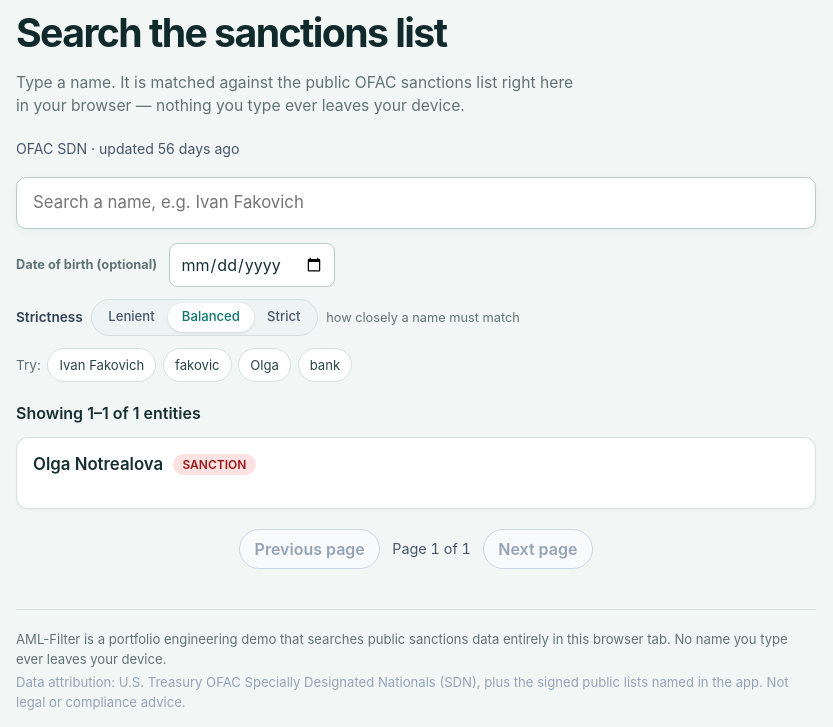
Test case: ScreenPage — screen rejection must not read as a clear › surfaces an error state on a mid-session screen rejection, not an empty no-match
# First, a genuine clear: the box shows the no-match line.
In the search field with placeholder "Search a name, e.g. Ivan Fakovich": (416, 203) x1=16 y1=177 x2=816 y2=229, type "harmless"
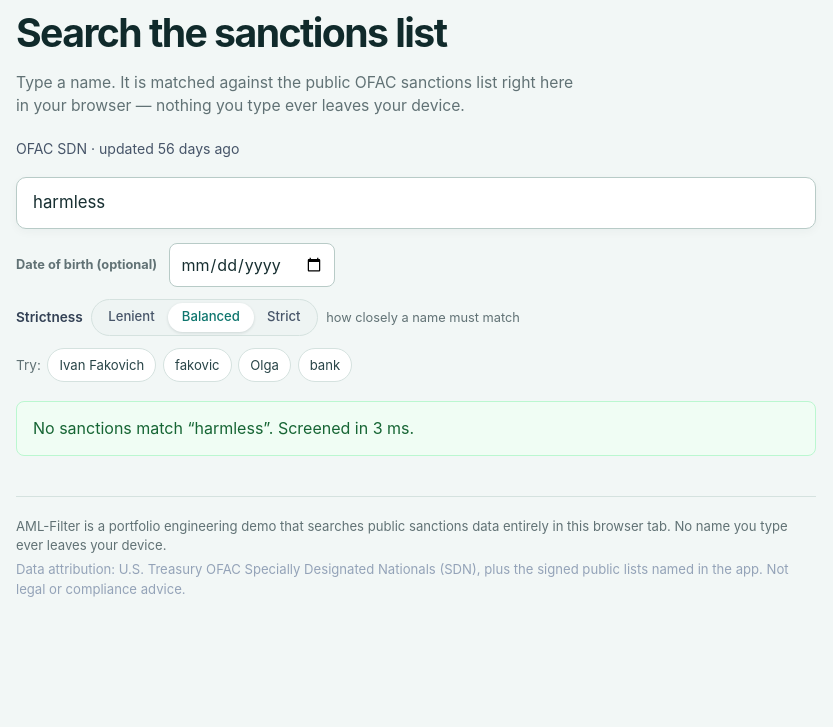
Expected: the text "No sanctions match “harmless”. Screened in 3 ms." is shown, x1=16 y1=401 x2=816 y2=456
Replace the text in the search field with placeholder "Search a name, e.g. Ivan Fakovich" with "ivan": (416, 203) x1=16 y1=177 x2=816 y2=229
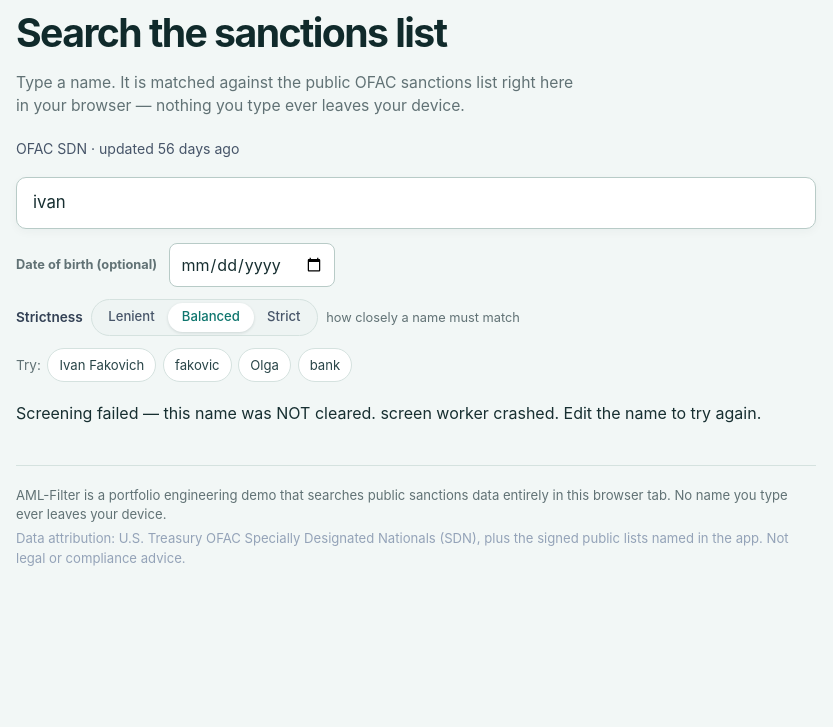
Expected: the text "No sanctions match" is gone
